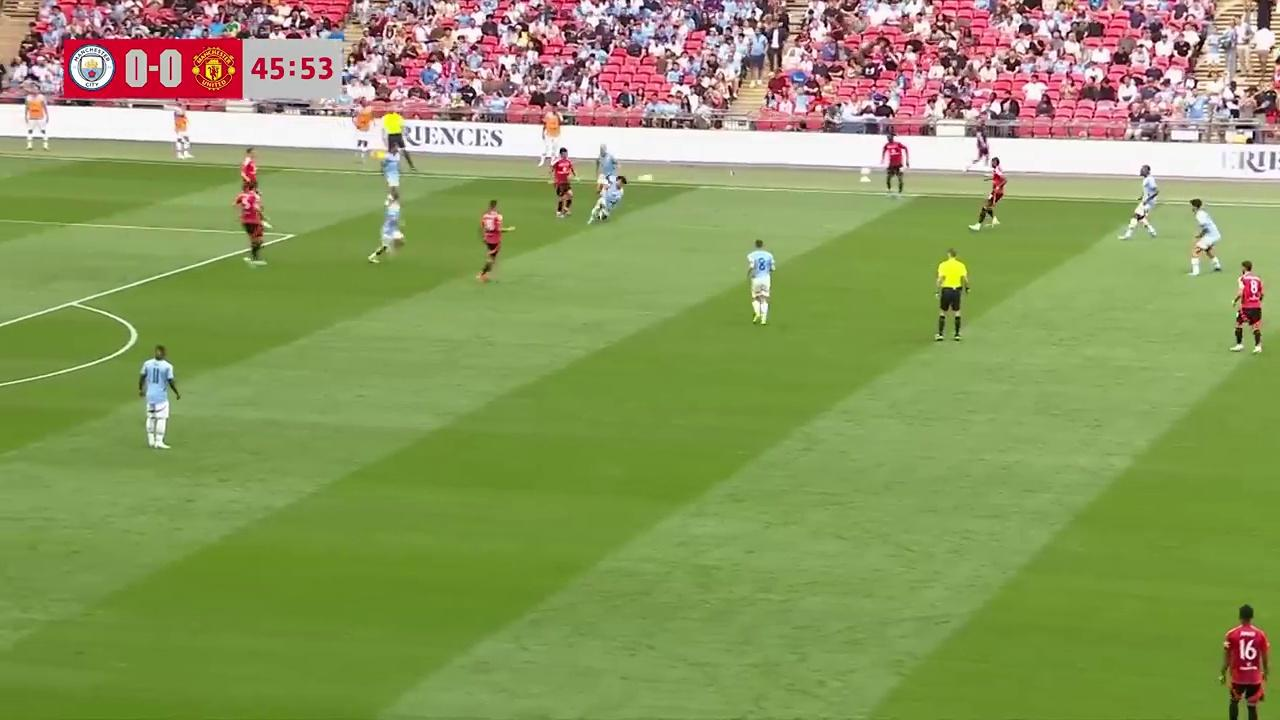player: (1220, 603, 1270, 720), (137, 345, 180, 449), (1118, 161, 1161, 241), (477, 199, 515, 284), (1230, 260, 1264, 353), (234, 186, 269, 265), (368, 191, 405, 263), (1188, 198, 1222, 275), (746, 239, 775, 324), (971, 160, 1006, 230), (586, 172, 629, 223), (237, 148, 263, 222), (549, 149, 576, 218), (881, 138, 908, 197), (594, 142, 620, 196), (381, 142, 402, 199)
referee: (934, 247, 970, 342), (378, 116, 416, 162)
